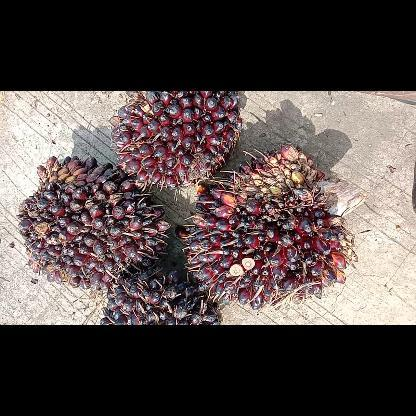TBS mentah: (183, 138, 359, 312), (14, 153, 170, 291), (106, 90, 246, 192), (97, 264, 223, 324)
